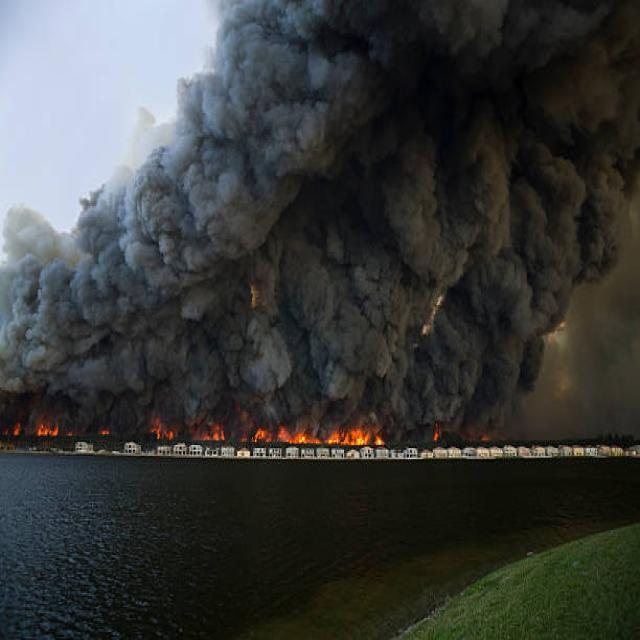Fire: (146, 414, 394, 449), (8, 407, 66, 442)
Smoke: (218, 20, 424, 429), (403, 0, 640, 302), (0, 207, 227, 406), (374, 295, 542, 433), (150, 118, 262, 254)
